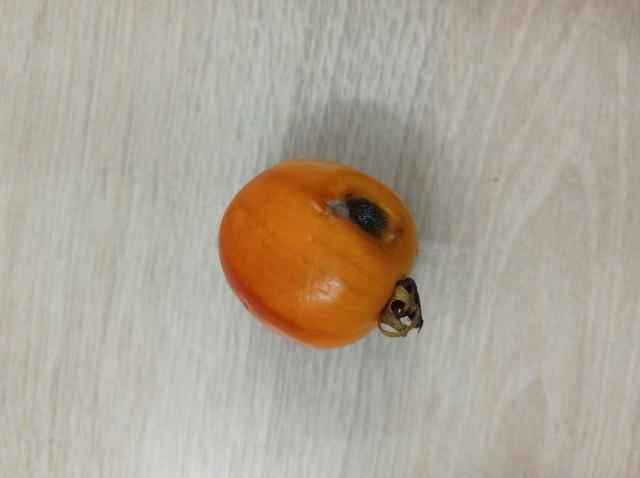defect: (211, 156, 424, 349)
